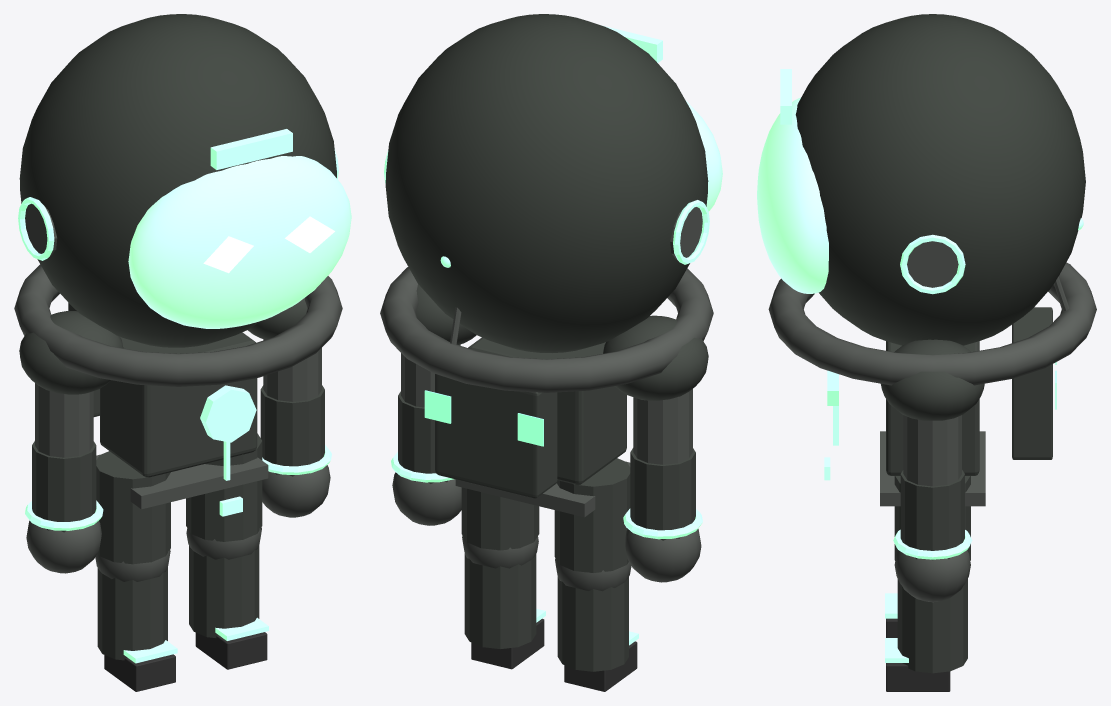
Rendered from globbler_v4.glb.
3 views of the same model, side by side, from view 1: azimuth 30°, elevation 25°; view 2: azimuth 150°, elevation 25°; view 3: azimuth 270°, elevation 25° (orthographic).
Visible parts, largest first — view 1: Globbler_Helmet, Globbler_Visor, Globbler_HelmetRim, Globbler_Body, Globbler_Thigh_L, Globbler_Shin_R, Globbler_Shin_L, Globbler_ArmForearm_L, Globbler_ArmForearm_R, Globbler_Thigh_R, Globbler_Pauldron_L, Globbler_ArmUpper_L (+19 smaller); view 2: Globbler_Helmet, Globbler_HelmetRim, Globbler_Backpack, Globbler_Body, Globbler_Thigh_L, Globbler_Shin_R, Globbler_Shin_L, Globbler_ArmForearm_L, Globbler_Pauldron_L, Globbler_Thigh_R, Globbler_ArmUpper_L, Globbler_Glove_L (+17 smaller); view 3: Globbler_Helmet, Globbler_HelmetRim, Globbler_Visor, Globbler_Shin_R, Globbler_Pauldron_R, Globbler_Backpack, Globbler_ArmForearm_R, Globbler_ArmUpper_R, Globbler_Glove_R, Globbler_Body, Globbler_HelmetPort_R, Globbler_Belt (+5 smaller).
Boxes of the visible parts, <box> form: Globbler_Helmet: <box>19,14,336,347</box>; Globbler_Visor: <box>128,156,351,328</box>; Globbler_HelmetRim: <box>14,264,342,386</box>; Globbler_Body: <box>100,332,257,477</box>; Globbler_Thigh_L: <box>96,451,170,564</box>; Globbler_Shin_R: <box>189,545,259,637</box>; Globbler_Shin_L: <box>97,568,167,660</box>; Globbler_ArmForearm_L: <box>32,441,96,532</box>; Globbler_ArmForearm_R: <box>260,385,324,476</box>; Globbler_Thigh_R: <box>186,433,262,541</box>; Globbler_Pauldron_L: <box>19,311,123,394</box>; Globbler_ArmUpper_L: <box>35,383,93,457</box>; Globbler_Helmet: <box>385,14,708,352</box>; Globbler_HelmetRim: <box>380,267,713,392</box>; Globbler_Backpack: <box>435,374,557,498</box>; Globbler_Body: <box>468,337,626,484</box>; Globbler_Thigh_L: <box>554,458,630,572</box>; Globbler_Shin_R: <box>464,554,536,648</box>; Globbler_Shin_L: <box>557,577,628,671</box>; Globbler_ArmForearm_L: <box>630,448,695,540</box>; Globbler_Pauldron_L: <box>603,315,708,400</box>; Globbler_Thigh_R: <box>461,487,539,550</box>; Globbler_ArmUpper_L: <box>633,389,692,464</box>; Globbler_Glove_L: <box>624,529,701,582</box>; Globbler_Helmet: <box>795,14,1085,345</box>; Globbler_HelmetRim: <box>768,262,1096,385</box>; Globbler_Visor: <box>757,97,828,293</box>; Globbler_Shin_R: <box>897,579,967,673</box>; Globbler_Pauldron_R: <box>881,339,984,420</box>; Globbler_Backpack: <box>1012,307,1052,459</box>; Globbler_ArmForearm_R: <box>900,470,964,560</box>; Globbler_ArmUpper_R: <box>903,415,961,486</box>; Globbler_Glove_R: <box>894,550,970,602</box>; Globbler_Body: <box>886,341,979,475</box>; Globbler_HelmetPort_R: <box>907,241,958,287</box>; Globbler_Belt: <box>880,431,985,506</box>.
Size of the model in its own units: 1.2 by 2.38 by 1.18.
